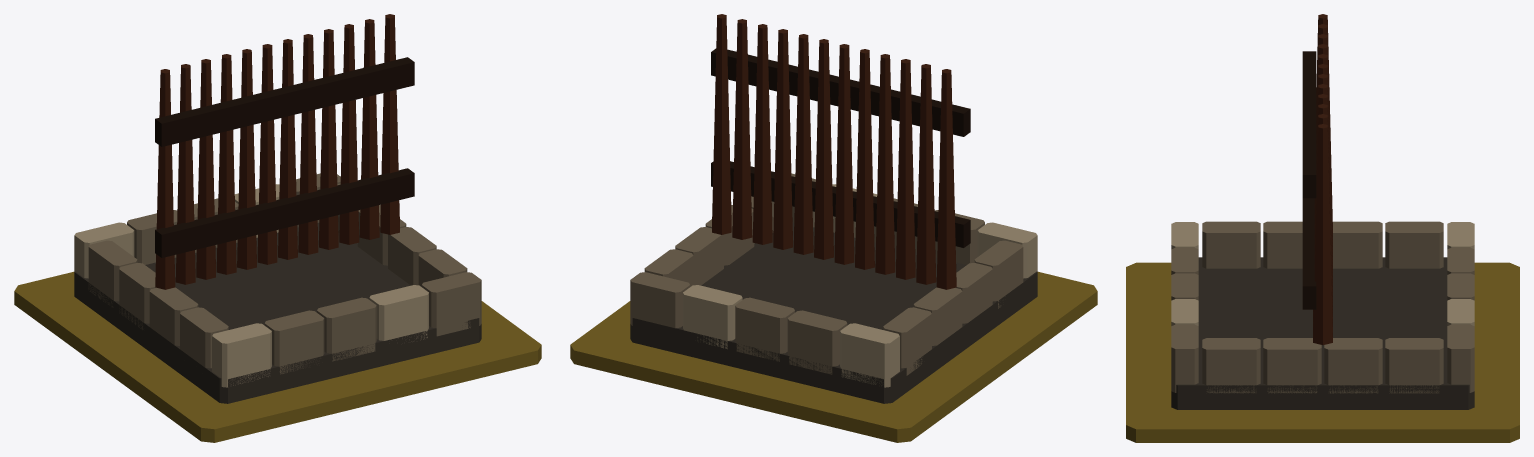
Rendered from wall_t2.glb.
The picture shows the model from 3 angles, left to right: view 1: azimuth 30°, elevation 25°; view 2: azimuth 150°, elevation 25°; view 3: azimuth 270°, elevation 25°; orthographic projection.
Visible parts, largest first — view 1: MMR | wall | T02 Architecture.001, MMR | wall | Tier 02 Ground.001; view 2: MMR | wall | T02 Architecture.001, MMR | wall | Tier 02 Ground.001; view 3: MMR | wall | T02 Architecture.001, MMR | wall | Tier 02 Ground.001.
Part boxes in pixels (x1,y1,x2,y2): MMR | wall | T02 Architecture.001: (74,14,481,403); MMR | wall | Tier 02 Ground.001: (14,271,541,442); MMR | wall | T02 Architecture.001: (630,14,1037,403); MMR | wall | Tier 02 Ground.001: (570,271,1097,442); MMR | wall | T02 Architecture.001: (1171,14,1474,409); MMR | wall | Tier 02 Ground.001: (1126,262,1519,442).
Bounding box in the file's own units: 1.3 × 1.05 × 1.3.
Materials: 1 (1 with a texture image).
